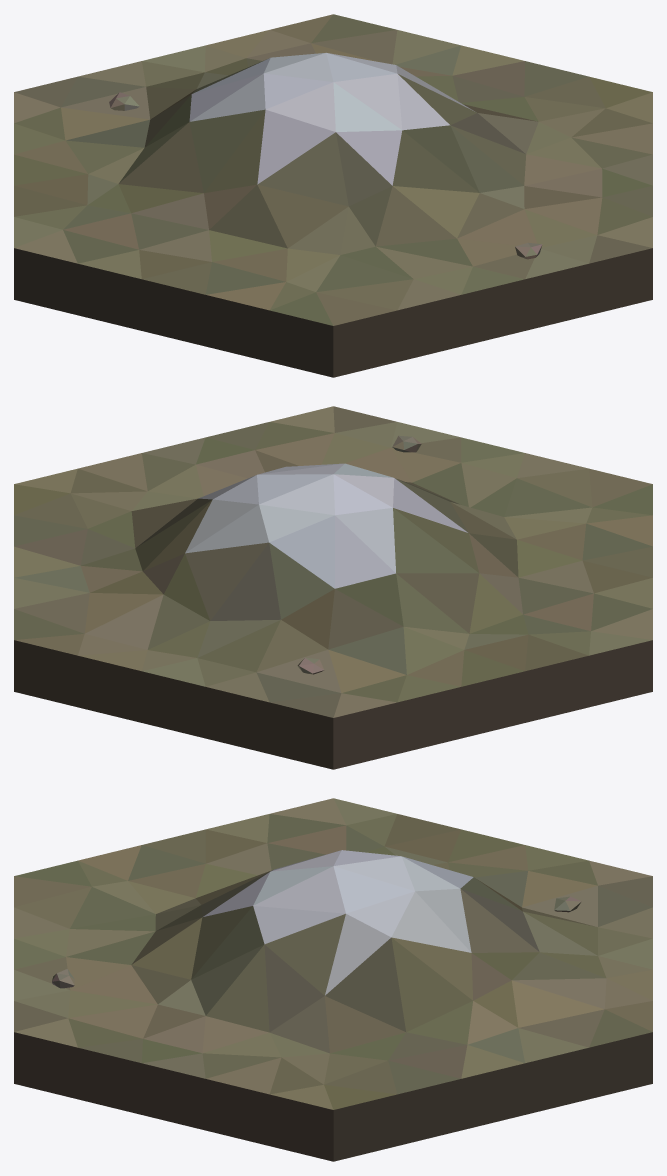
Rendered from Tundra Hill2.glb.
The picture shows the model from 3 angles, top to bottom: view 1: azimuth 30°, elevation 25°; view 2: azimuth 150°, elevation 25°; view 3: azimuth 270°, elevation 25°; orthographic projection.
Visible parts, largest first — view 1: Tundra Hill2; view 2: Tundra Hill2; view 3: Tundra Hill2.
Boxes of the visible parts, left/top/right/bottom form: Tundra Hill2: left=14, top=14, right=652, bottom=377; Tundra Hill2: left=14, top=406, right=652, bottom=769; Tundra Hill2: left=14, top=798, right=652, bottom=1161.
Bounding box in the file's own units: 1.94 × 0.4052 × 1.68.
